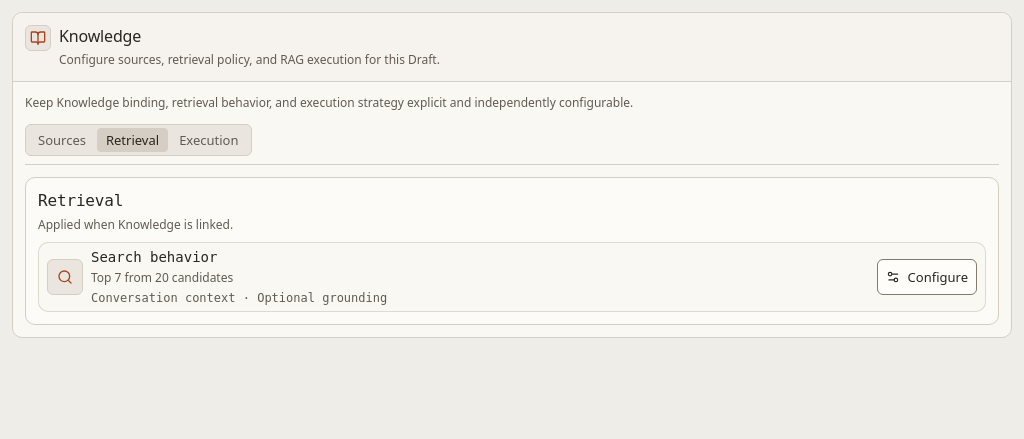
Scenario: Agent Knowledge execution settings › splits Knowledge into Sources, Retrieval and Execution tabs without hiding existing retrieval behavior
Step 1. Click the tab "Sources" → x=62, y=140, box left=29, top=128, right=95, bottom=152
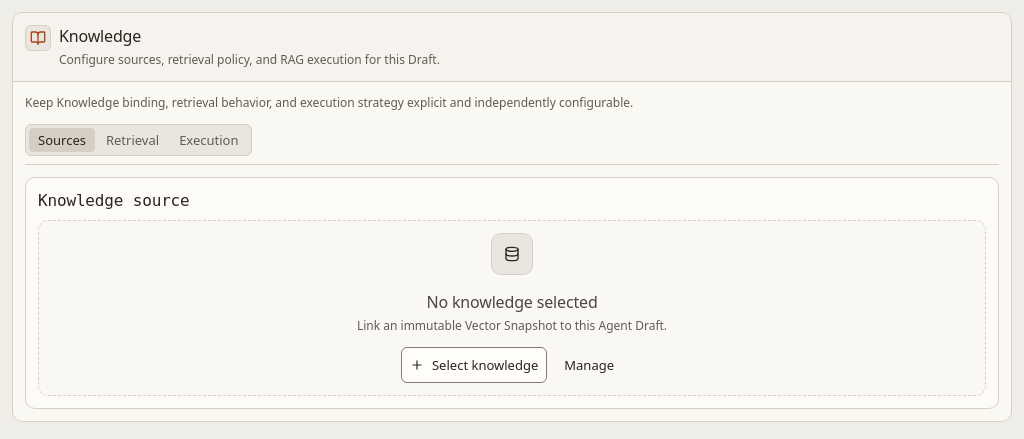
Expected: the text "No knowledge selected" is shown, left=426, top=291, right=598, bottom=313
Step 2. Click the tab "Execution" → x=209, y=140, box left=170, top=128, right=248, bottom=152
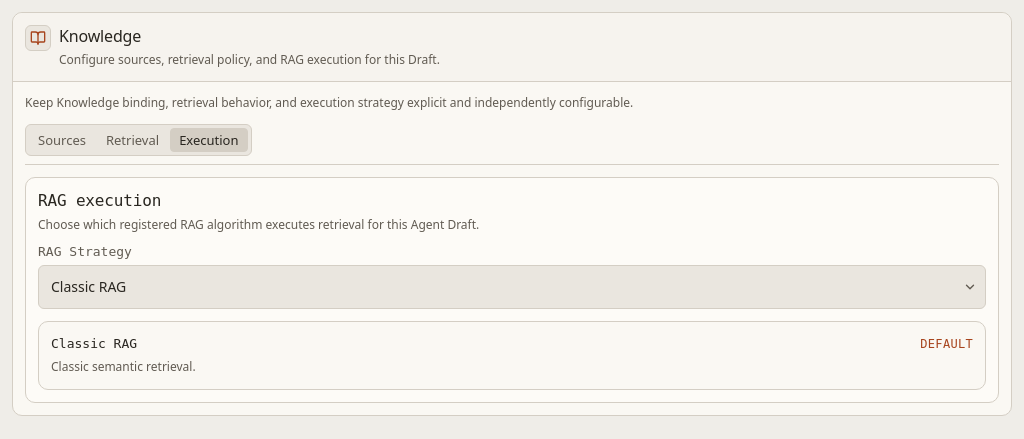
Expected: the text "RAG execution" is shown, left=59, top=51, right=440, bottom=68
Expected: the text "Classic RAG" is shown, left=51, top=334, right=137, bottom=353
